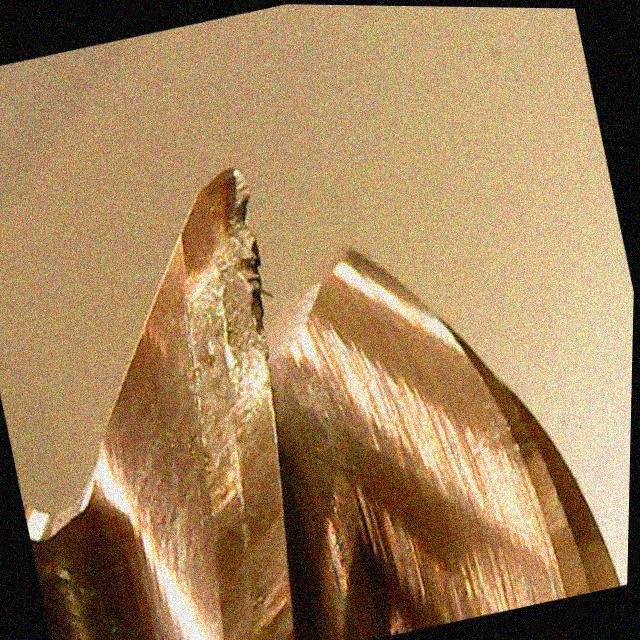Tool-wear-class-1: (147, 157, 320, 482)
